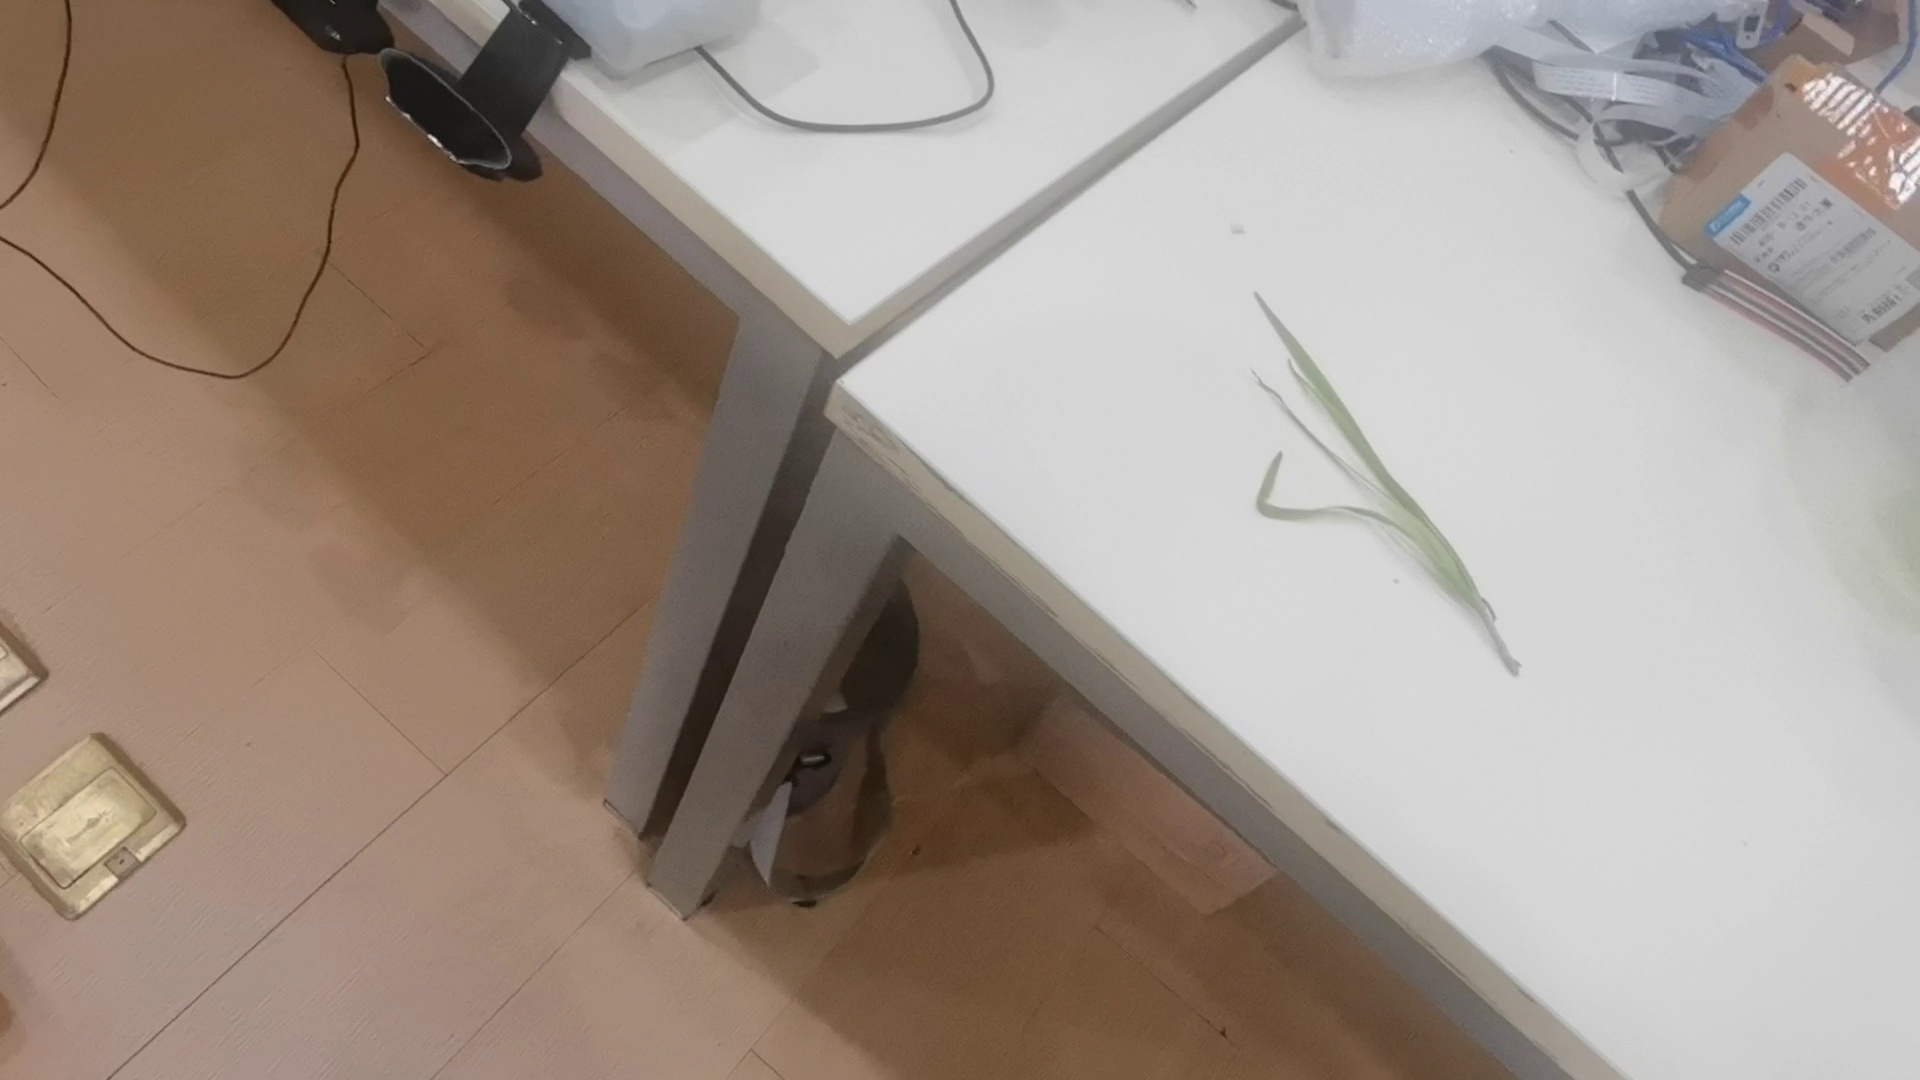chives: (1241, 288, 1529, 672)
